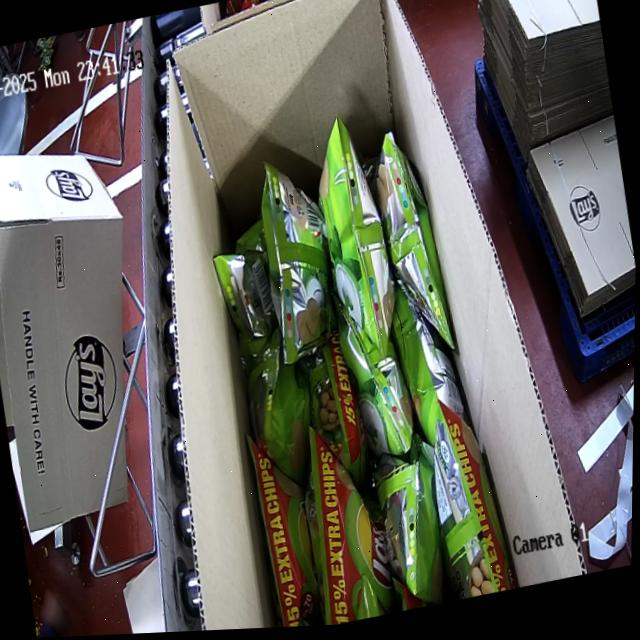YOGURT_HERB: (183, 94, 523, 631)
